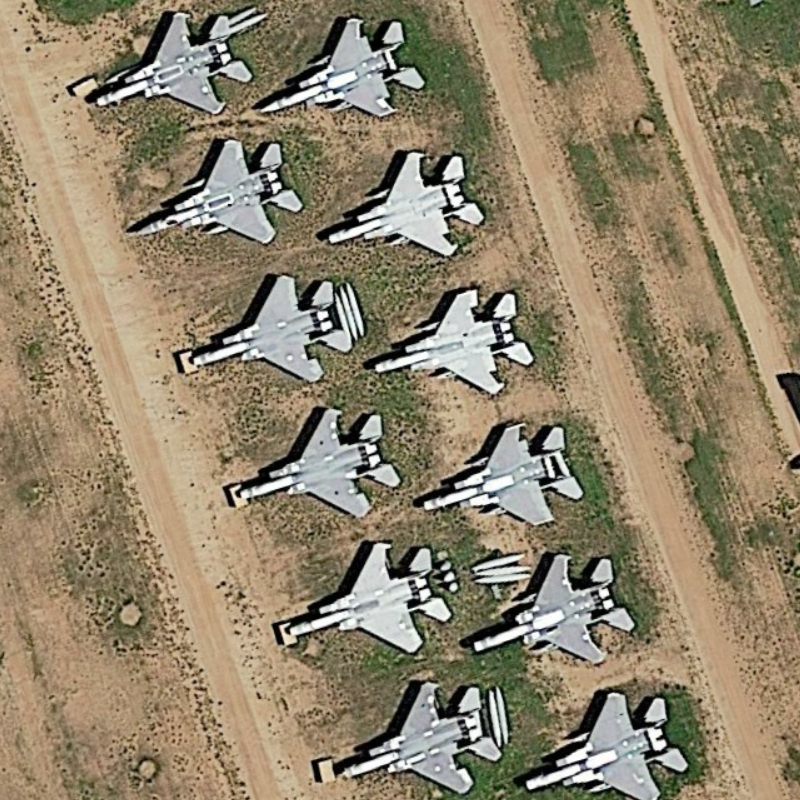A13: (118, 135, 304, 255), (334, 670, 505, 799), (470, 547, 644, 672), (517, 676, 692, 800), (293, 531, 459, 661), (187, 263, 363, 385), (328, 139, 493, 269), (232, 402, 405, 523), (259, 8, 428, 131), (81, 11, 261, 126), (373, 282, 545, 399), (420, 412, 582, 533)
